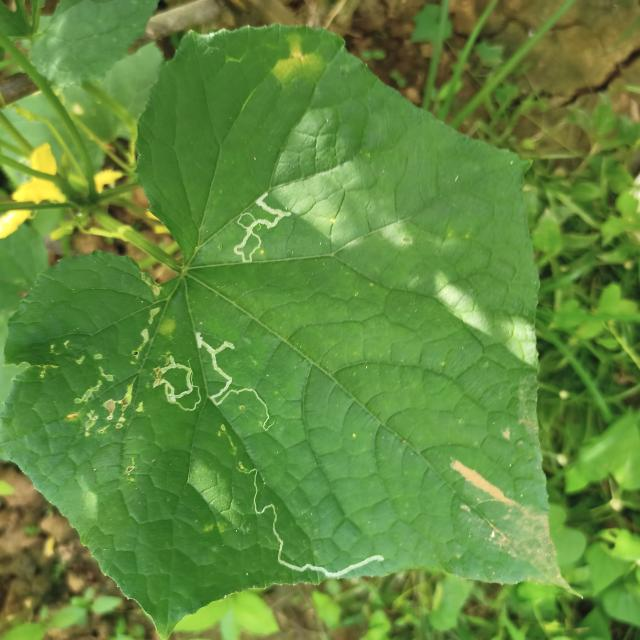disease_cucumber: (270, 28, 325, 86)
